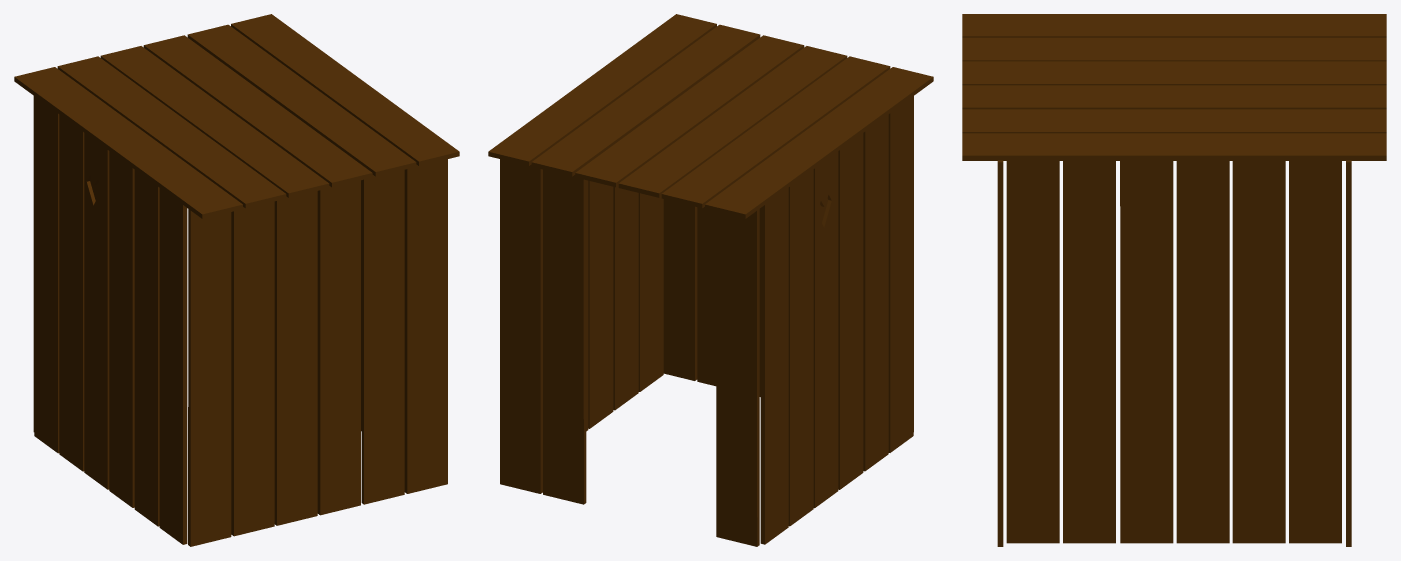
The model's file is shed.glb.
The picture shows the model from 3 angles, left to right: view 1: azimuth 30°, elevation 25°; view 2: azimuth 150°, elevation 25°; view 3: azimuth 270°, elevation 25°; orthographic projection. The views are drawn at different scales.
Parts seen in each view (by area): view 1: Куб; view 2: Куб; view 3: Куб.
Part boxes in pixels (box(x1,y1,x2,y2)): Куб: box(14, 14, 459, 546); Куб: box(488, 14, 933, 546); Куб: box(962, 14, 1386, 546).
Size of the model in its own units: 3.21 by 4.05 by 4.
